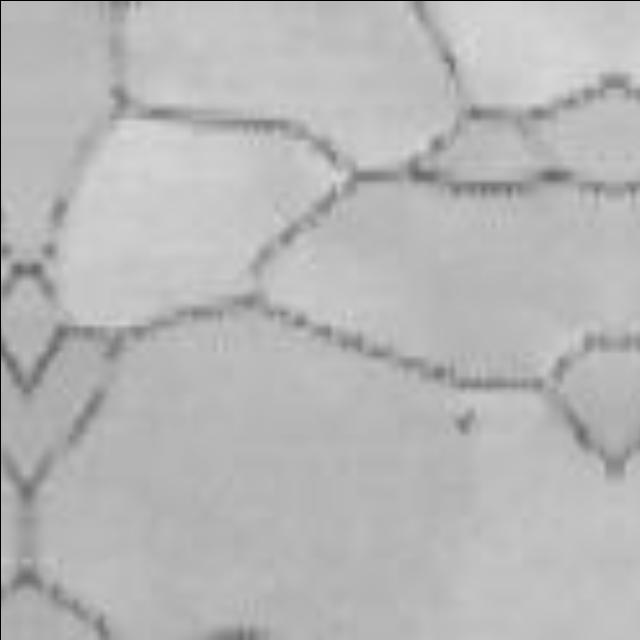good_void: (450, 408, 477, 434)
